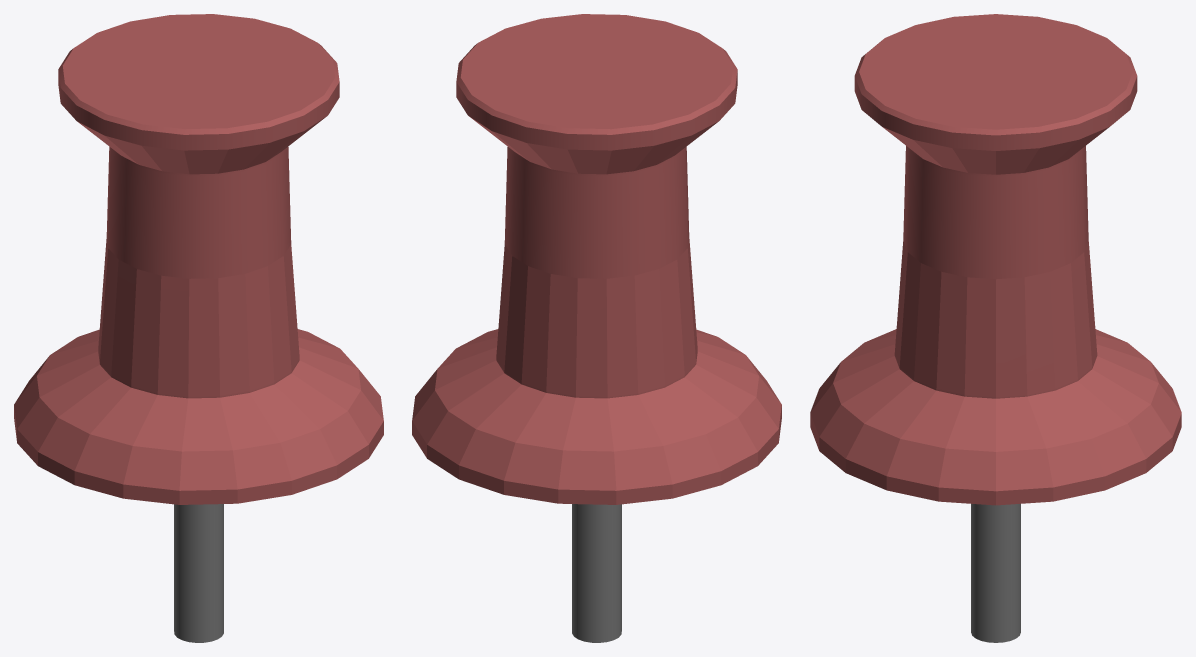
Rendered from tachuela.fbx.
3 renders of one model, left to right at view 1: azimuth 30°, elevation 25°; view 2: azimuth 150°, elevation 25°; view 3: azimuth 270°, elevation 25°, orthographic.
Visible parts, largest first — view 1: Notice_Board.001; view 2: Notice_Board.001; view 3: Notice_Board.001.
Part boxes in pixels (x1,y1,x2,y2): Notice_Board.001: (14,14,383,642); Notice_Board.001: (412,14,781,642); Notice_Board.001: (810,14,1181,642).
Bounding box in the file's own units: 0.2418 × 0.4024 × 0.2418.
